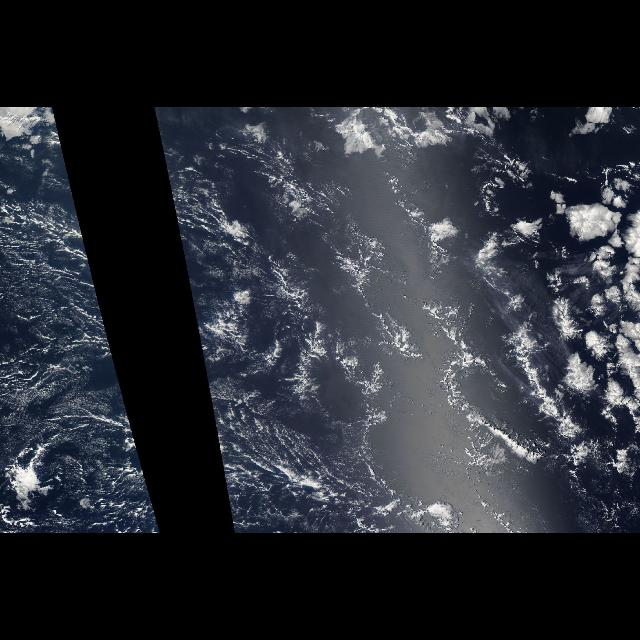Flower: (462, 142, 640, 502)
Gravel: (171, 198, 425, 526), (3, 198, 159, 526)
Sugar: (166, 173, 384, 533), (7, 173, 161, 533)
